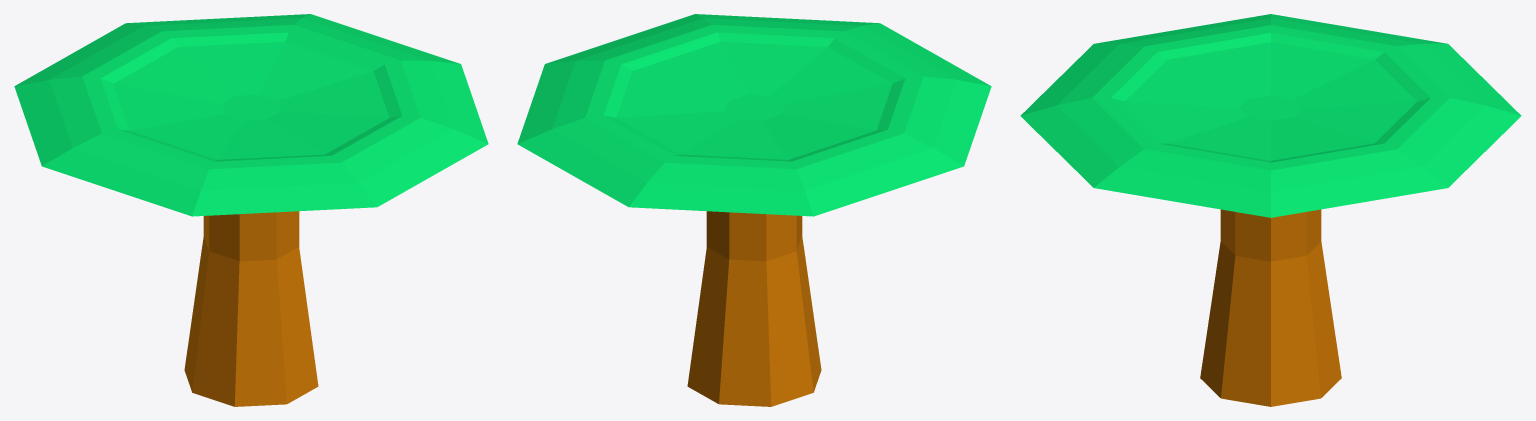
Rendered from shroom3.fbx.
3 views of the same model, side by side, from view 1: azimuth 30°, elevation 25°; view 2: azimuth 150°, elevation 25°; view 3: azimuth 270°, elevation 25° (orthographic).
Visible parts, largest first — view 1: Cylinder; view 2: Cylinder; view 3: Cylinder.
Boxes of the visible parts, <box> form: Cylinder: <box>14,14,488,406</box>; Cylinder: <box>517,14,991,406</box>; Cylinder: <box>1020,14,1521,406</box>.
Size of the model in its own units: 947 by 607 by 984.
